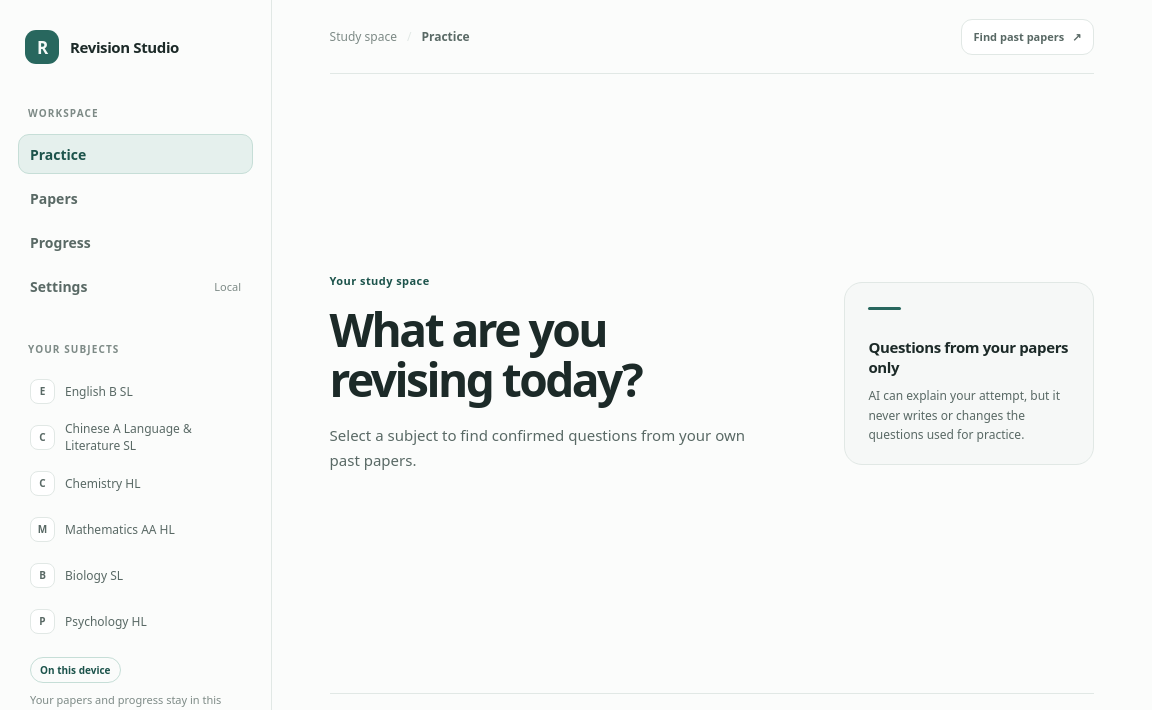
Test: AppShell › changes the selected subject and section without a page reload
What coordinates should you click on to do the following:
click the button "B Biology SL"
I would click on:
 (136, 575)
Its box is [18,554,253,596].
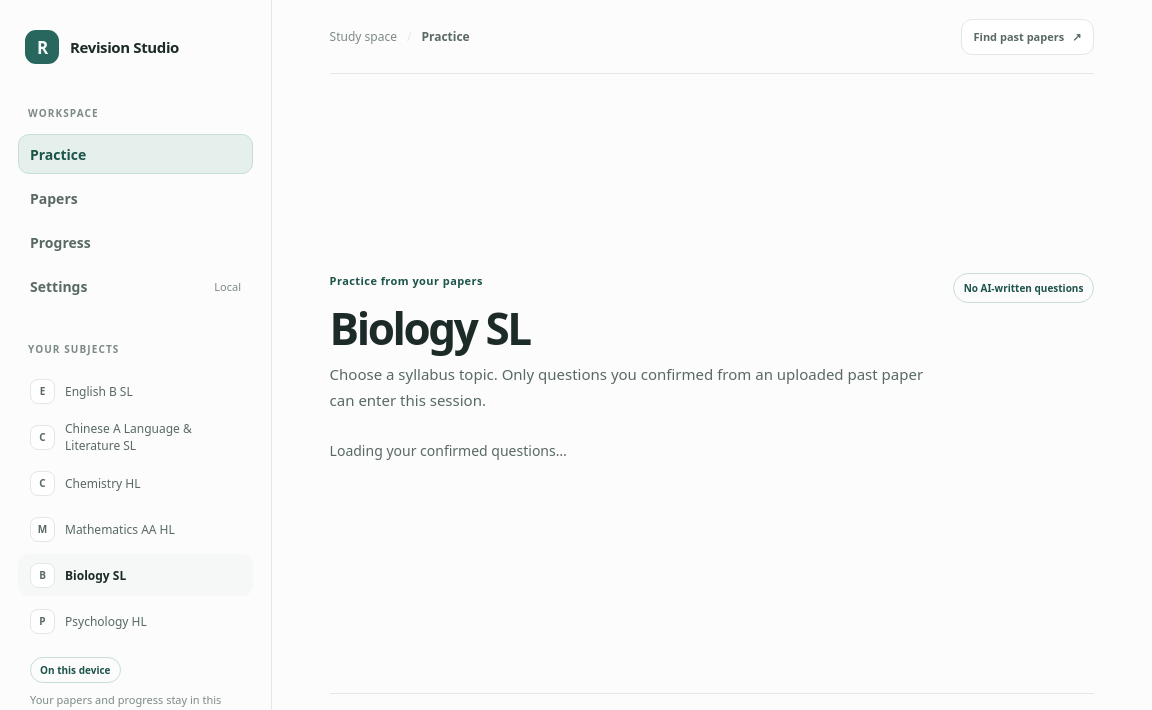
expect the heading "Biology SL" is shown: met, box [330,298,530,358]
What coordinates should you click on to do the following:
click the button "Papers"
I would click on:
 (136, 198)
Its box is [18,178,253,218].
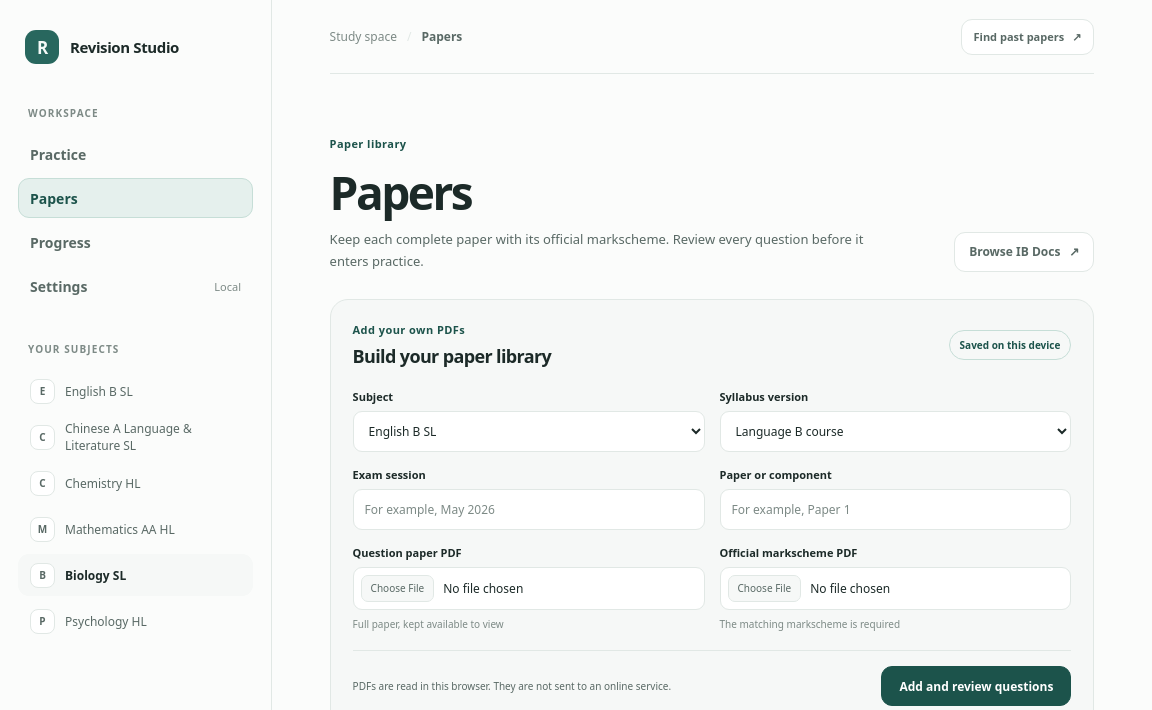
expect the heading "Papers" is shown: met, box [330,161,471,223]
expect the file field labelled "Question paper PDF Full paper, kept available to view" is shown: met, box [353,567,704,610]
expect the file field labelled "Official markscheme PDF The matching markscheme is required" is shown: met, box [720,567,1071,610]
